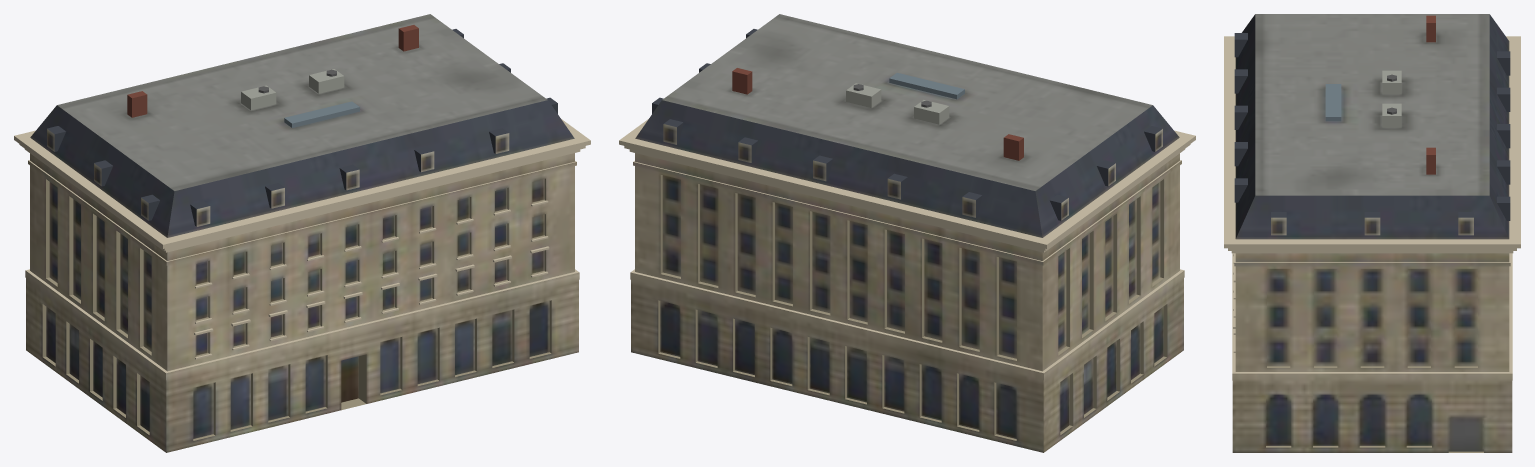
The model's file is dc_beaux_c.glb.
3 views of the same model, side by side, from view 1: azimuth 30°, elevation 25°; view 2: azimuth 150°, elevation 25°; view 3: azimuth 270°, elevation 25° (orthographic).
Parts seen in each view (by area): view 1: dc_beaux_c; view 2: dc_beaux_c; view 3: dc_beaux_c.
Part boxes in pixels (left/top/right/bottom): dc_beaux_c: left=14, top=14, right=590, bottom=452; dc_beaux_c: left=619, top=14, right=1195, bottom=452; dc_beaux_c: left=1224, top=14, right=1520, bottom=452.
Bounding box in the file's own units: 50.4 × 30.2 × 30.4.
1 material, 1 textured.
